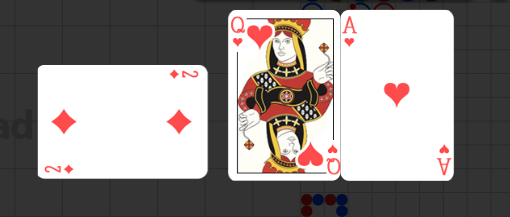2D: (167, 67, 199, 80), (42, 162, 75, 174)
AH: (341, 14, 358, 48)
